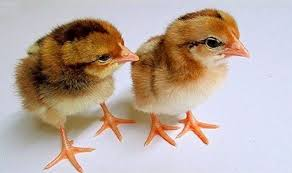Gà/Chicken: (10, 12, 138, 173), (133, 8, 254, 156)
